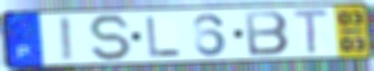6: (192, 13, 228, 57)
B: (242, 9, 291, 58)
I: (57, 15, 76, 63)
L: (144, 15, 184, 58)
S: (86, 13, 136, 63)
T: (291, 7, 332, 57)
